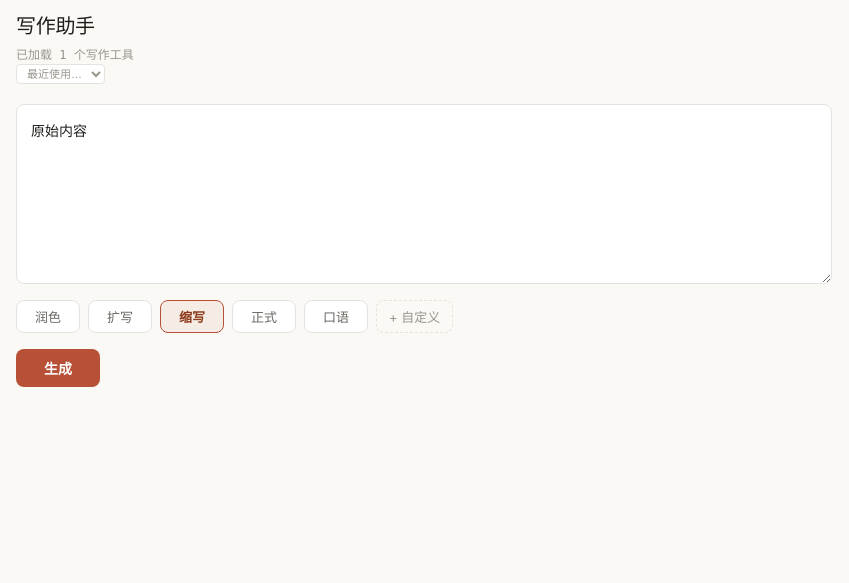
it: <CastWritingPage /> › shows result in output area
Replace the text in the text box with placeholder "输入需要处理的内容…" with "测试内容" at [424, 194], box top-left (16, 104), bottom-right (832, 284)
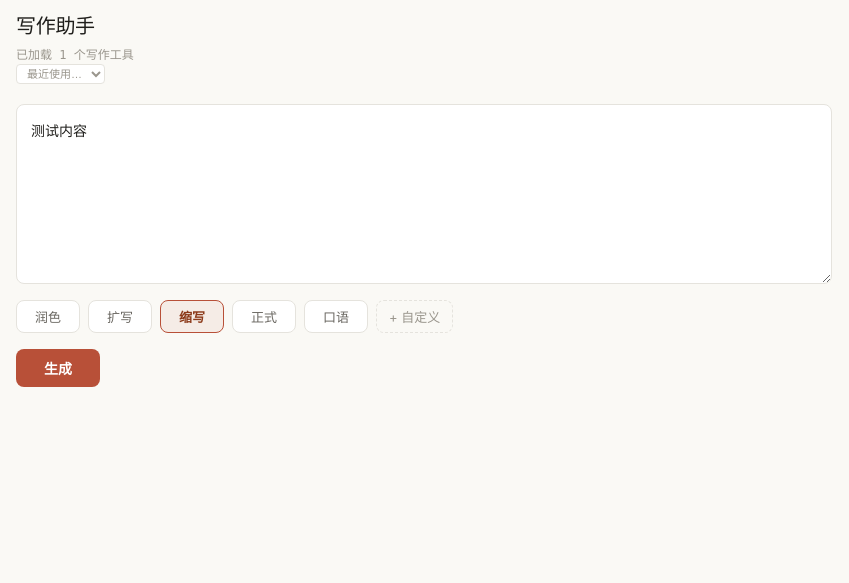
Click the button "生成" at [58, 368], box top-left (16, 349), bottom-right (100, 387)
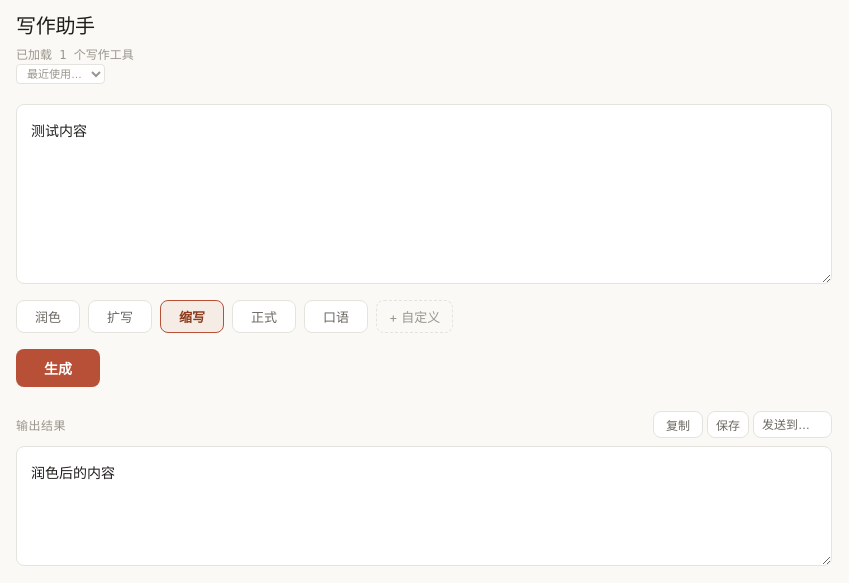
Now the text box "润色后的内容" below "输出结果" is shown, box top-left (16, 446), bottom-right (832, 566)
